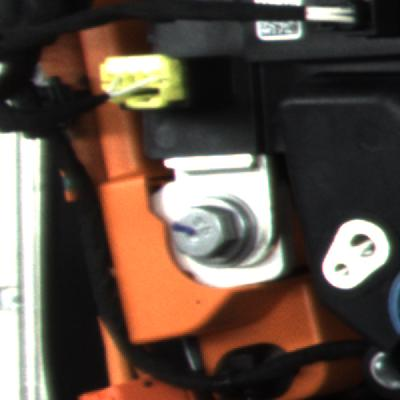nut_b: (165, 191, 279, 281)
